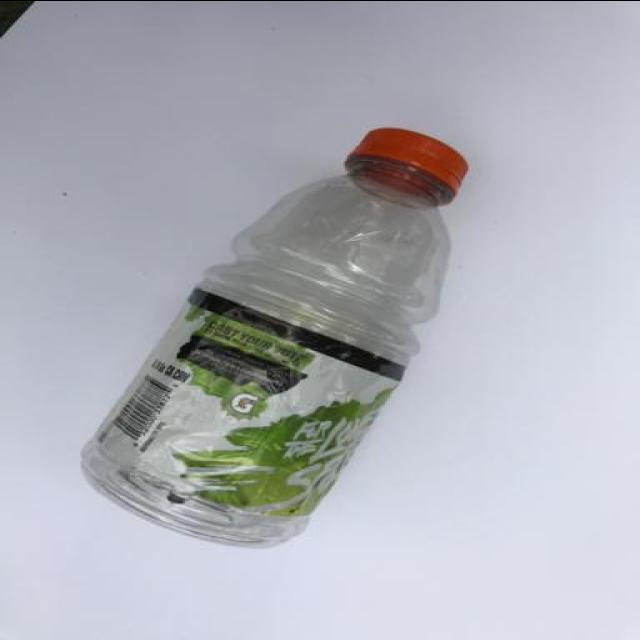PET: (79, 126, 474, 550)
